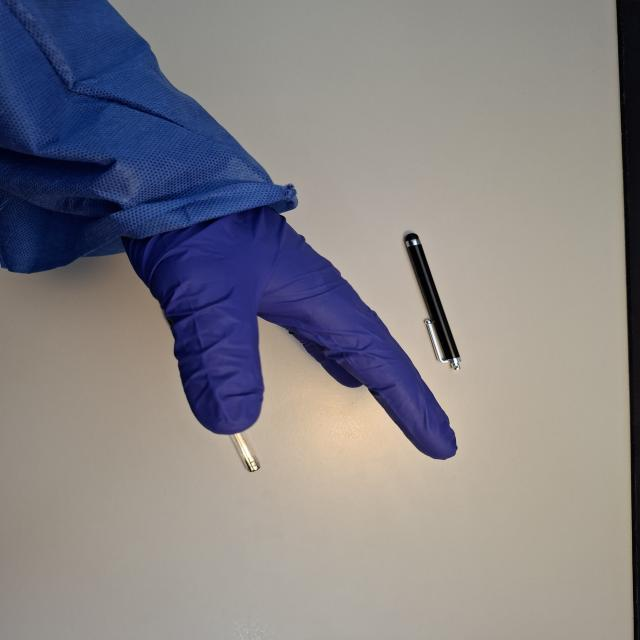glove_on: (108, 198, 463, 463)
